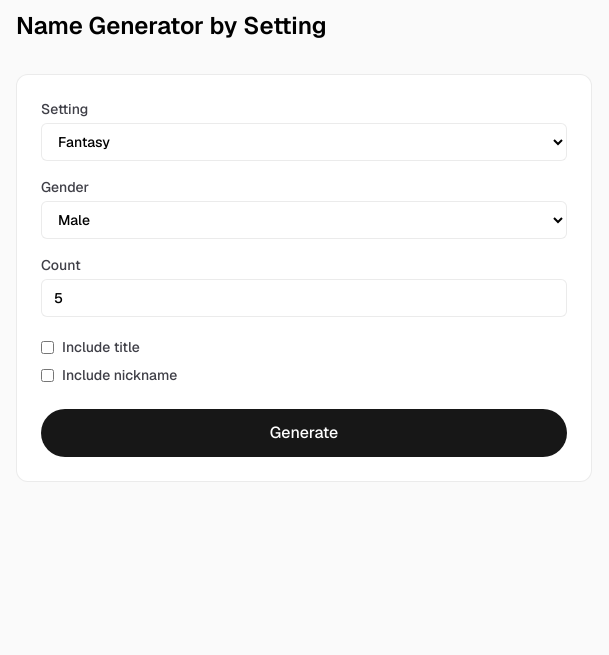
Test case: Home (name generator screen) › shows region and century selects only when 'Realistic' is chosen
The width and height of the screenshot is (609, 655).
Check: the field labelled "Region" is not shown
Check: the field labelled "Century" is not shown
Select "Realistic" in the dropdown labelled "Setting". click: (304, 142)
box: top-left (41, 123), bottom-right (567, 161)
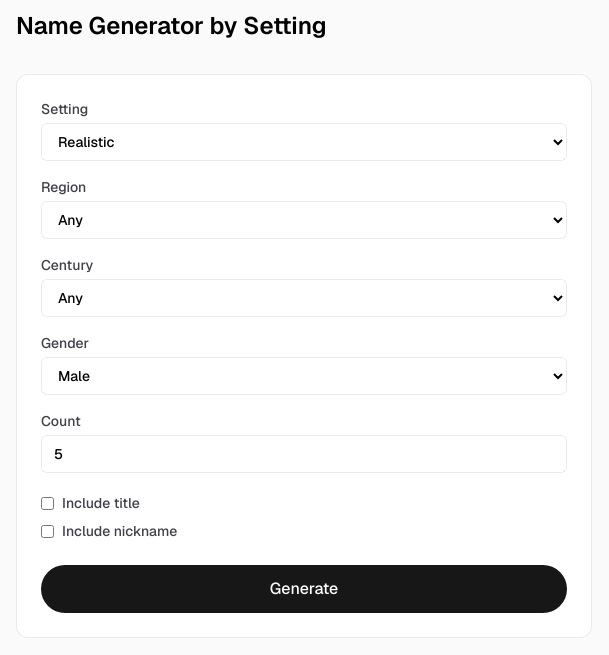
Check: the dropdown labelled "Region" is shown, box top-left (41, 201), bottom-right (567, 239)
Check: the dropdown labelled "Century" is shown, box top-left (41, 279), bottom-right (567, 317)
Select "Fantasy" in the dropdown labelled "Setting". click: (304, 142)
box: top-left (41, 123), bottom-right (567, 161)
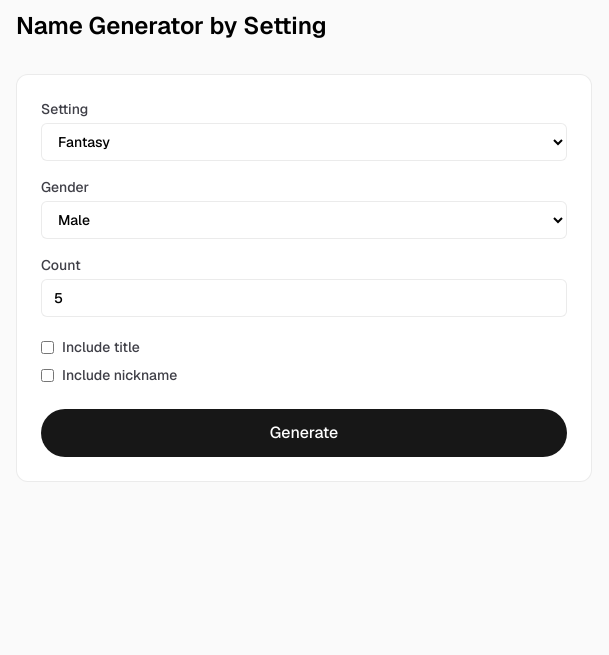
Check: the label labelled "Region" is gone
Check: the label labelled "Century" is gone
